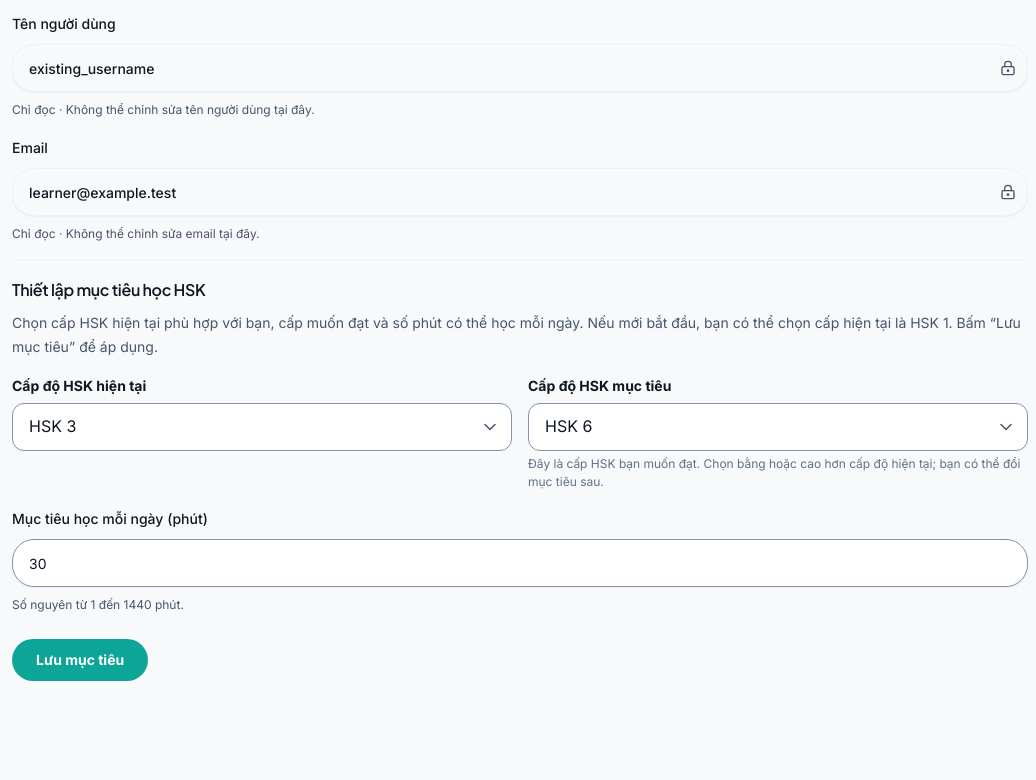
Scenario: blocks a lower target without resetting the chosen levels or daily minutes, then saves the correction
The width and height of the screenshot is (1036, 780).
Select "HSK 1" in the dropdown labelled "Cấp độ HSK mục tiêu": (778, 427) [528, 403, 1028, 451]
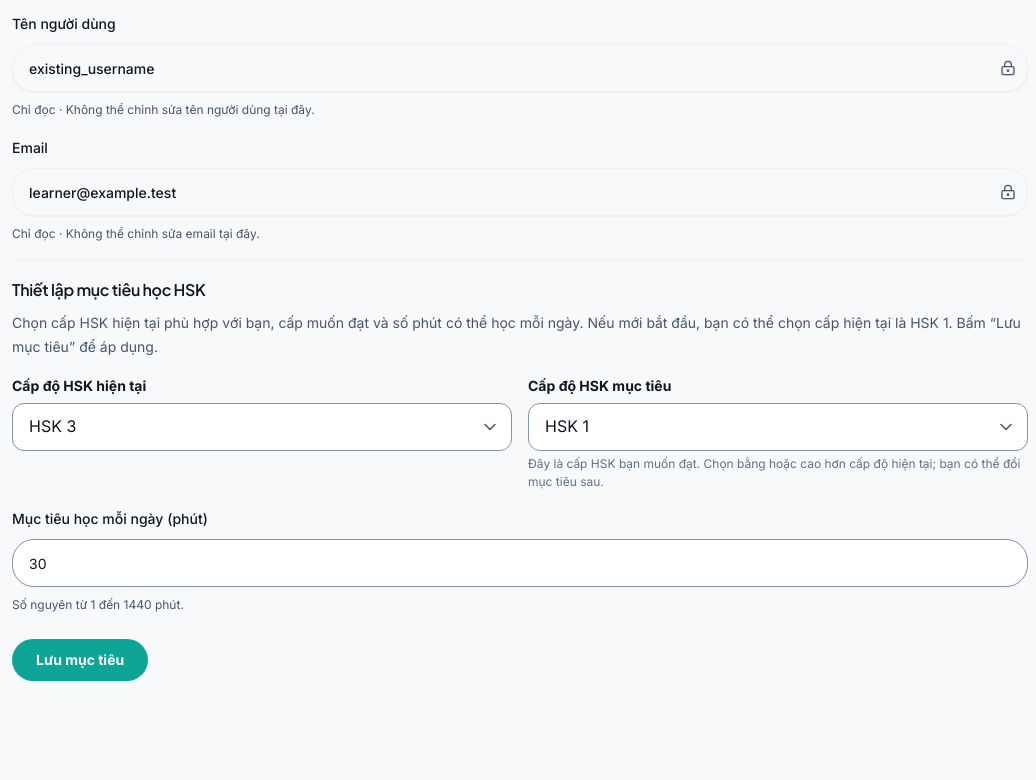
Replace the text in the number field labelled "Mục tiêu học mỗi ngày (phút)" with "45": (520, 563) [12, 539, 1028, 587]
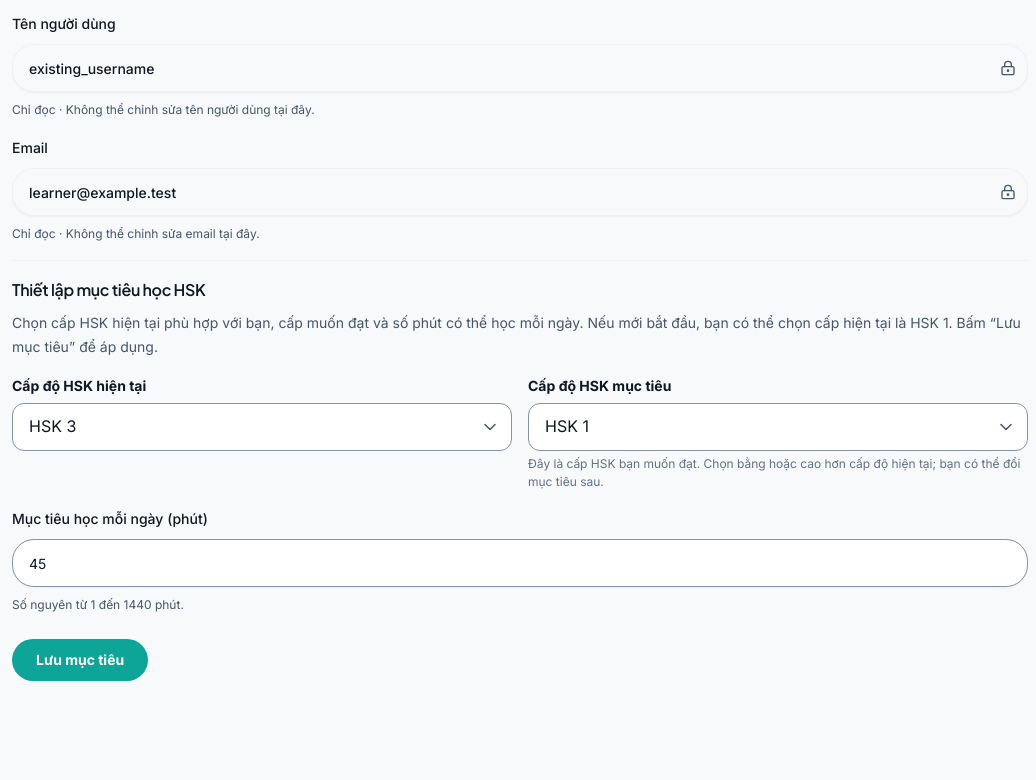
Submit the form named "Lưu mục tiêu"
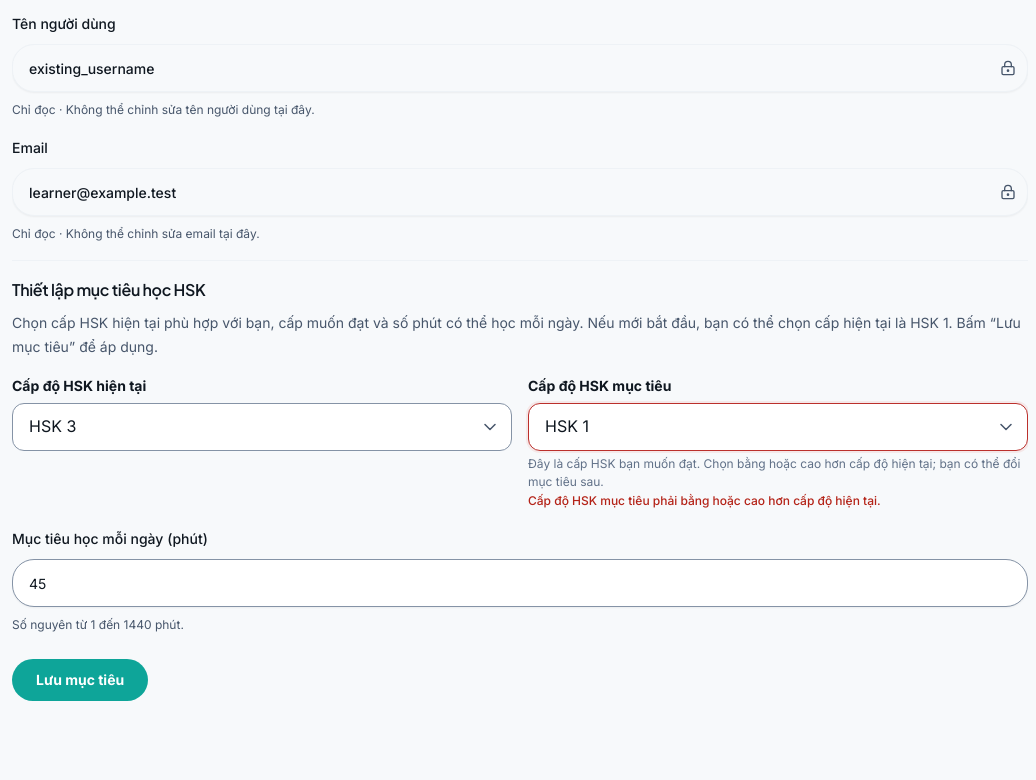
Check: the dropdown labelled "Cấp độ HSK hiện tại" shows "HSK 3", box [12, 403, 512, 451]
Check: the text "Cấp độ HSK mục tiêu phải bằng hoặc cao hơn cấp độ hiện tại." is shown, box [528, 493, 881, 508]
Select "HSK 3" in the dropdown labelled "Cấp độ HSK mục tiêu": (778, 427) [528, 403, 1028, 451]
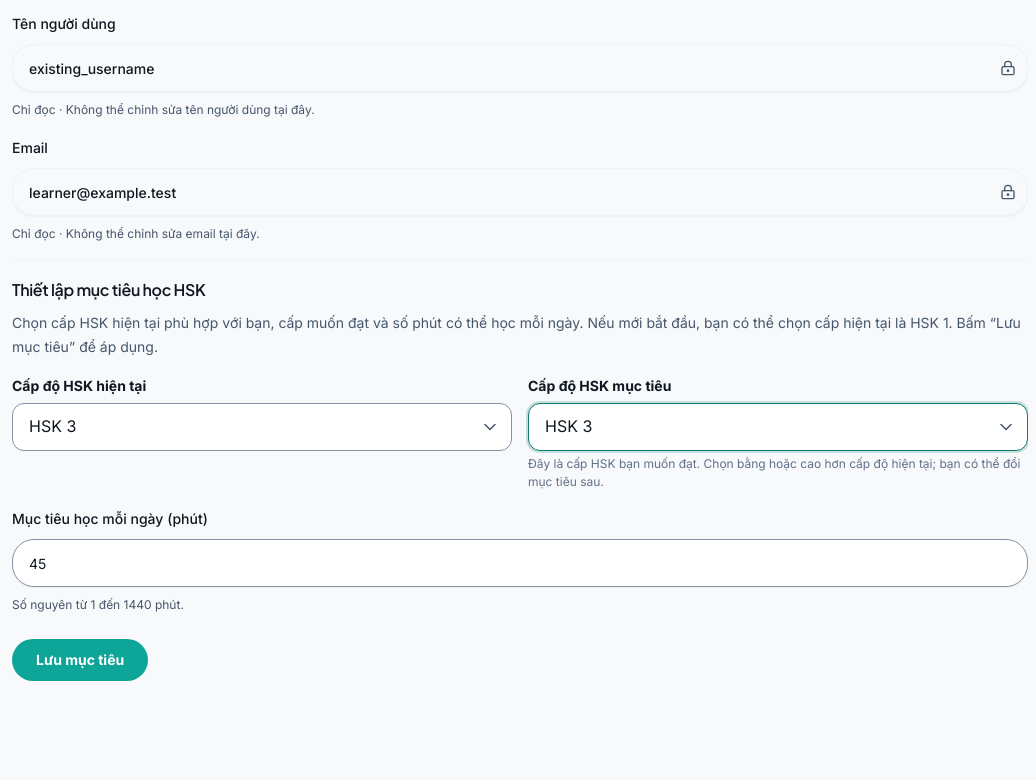
Check: the text "Cấp độ HSK mục tiêu phải bằng hoặc cao hơn cấp độ hiện tại." is gone
Submit the form named "Lưu mục tiêu"
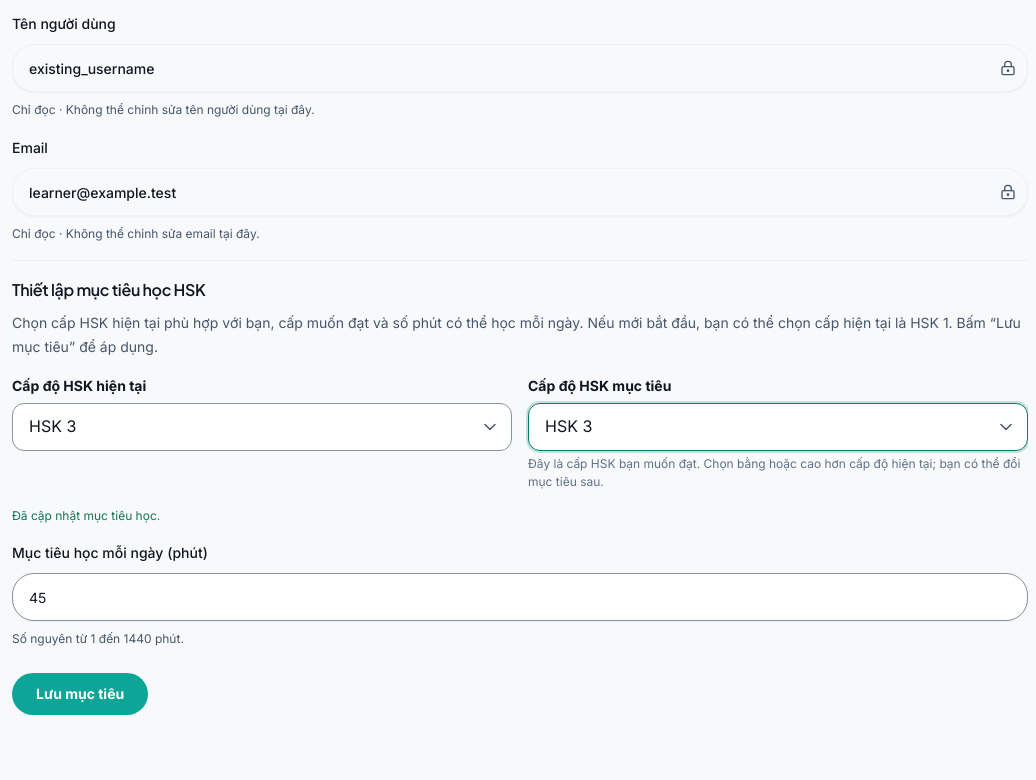
Check: the message reads "Đã cập nhật mục tiêu học.", box [12, 508, 160, 523]
